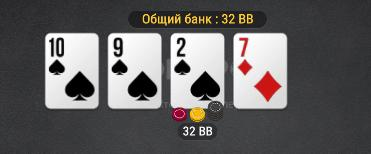10s: (45, 33, 98, 107)
2s: (172, 34, 224, 107)
7d: (234, 34, 287, 109)
9s: (109, 34, 161, 109)
